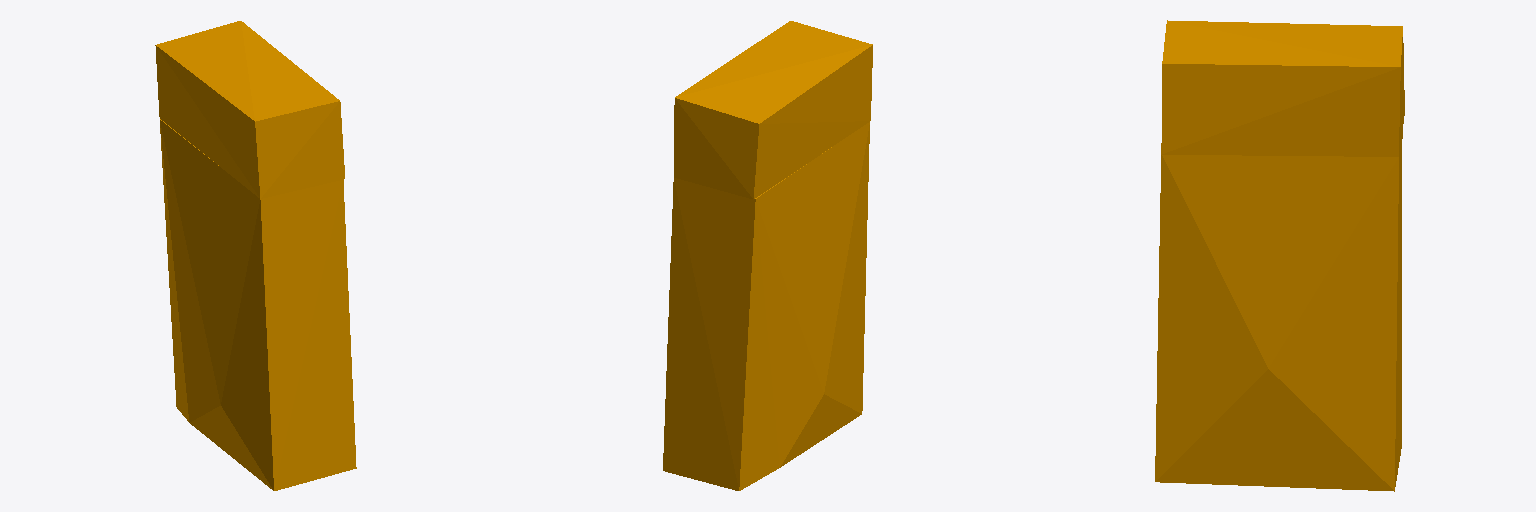
robot.urdf — 004_sugar_box:
<?xml version="1.0" encoding="UTF-8"?>
<robot name="004_sugar_box">
	<link name="base">
		<collision>
			<geometry>
				<mesh filename="../vhacd/004_sugar_box_vhacd.obj" scale="1.0 1.0 1.0"/>
			</geometry>
			<origin xyz="0 0 0"/>
			<contact_coefficients mu="0.24" />
		</collision>
		<visual>
			<geometry>
				<mesh filename="../vhacd/004_sugar_box_vhacd.obj" scale="1.0 1.0 1.0"/>
			</geometry>
			<origin xyz="0 0 0"/>
		</visual>
		<inertial>
			<mass value="0.4"/>
			<inertia ixx="0.00130039268859581" ixy="-7.734926195038051e-06" ixz="3.829351528595099e-05" iyy="0.0010895013008604484" iyz="-1.3367868690991762e-05" izz="0.00033840334132649005" />
			<origin xyz="-0.007807555273224016 -0.017082680498368183 0.08619582978339559"/>
		</inertial>
	</link>
</robot>

--- Facts derived from the render (not from the file) ---
Views: 3 orthographic renders of the robot side by side, from view 1: azimuth 30°, elevation 25°; view 2: azimuth 150°, elevation 25°; view 3: azimuth 270°, elevation 25°.
Robot: 004_sugar_box — 1 links, 0 joints (none); root link base; default pose: all joints at 0.
Links seen in each view (by area): view 1: base; view 2: base; view 3: base.
Link boxes in pixels (x1,y1,x2,y2): base: [155, 21, 356, 490]; base: [663, 21, 872, 490]; base: [1155, 20, 1404, 491].
Bounding box of the posed robot: 0.053 × 0.0971 × 0.1785 m (x, y, z).
Meshes: 1 distinct files referenced, 1 mesh visuals loaded (1 OBJ).